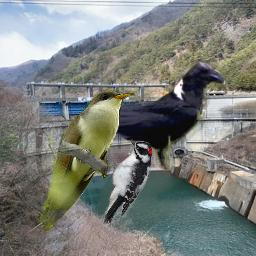Crow: (102, 60, 226, 170)
Cuckoo: (38, 89, 135, 231)
Woodpecker: (102, 139, 152, 227)
